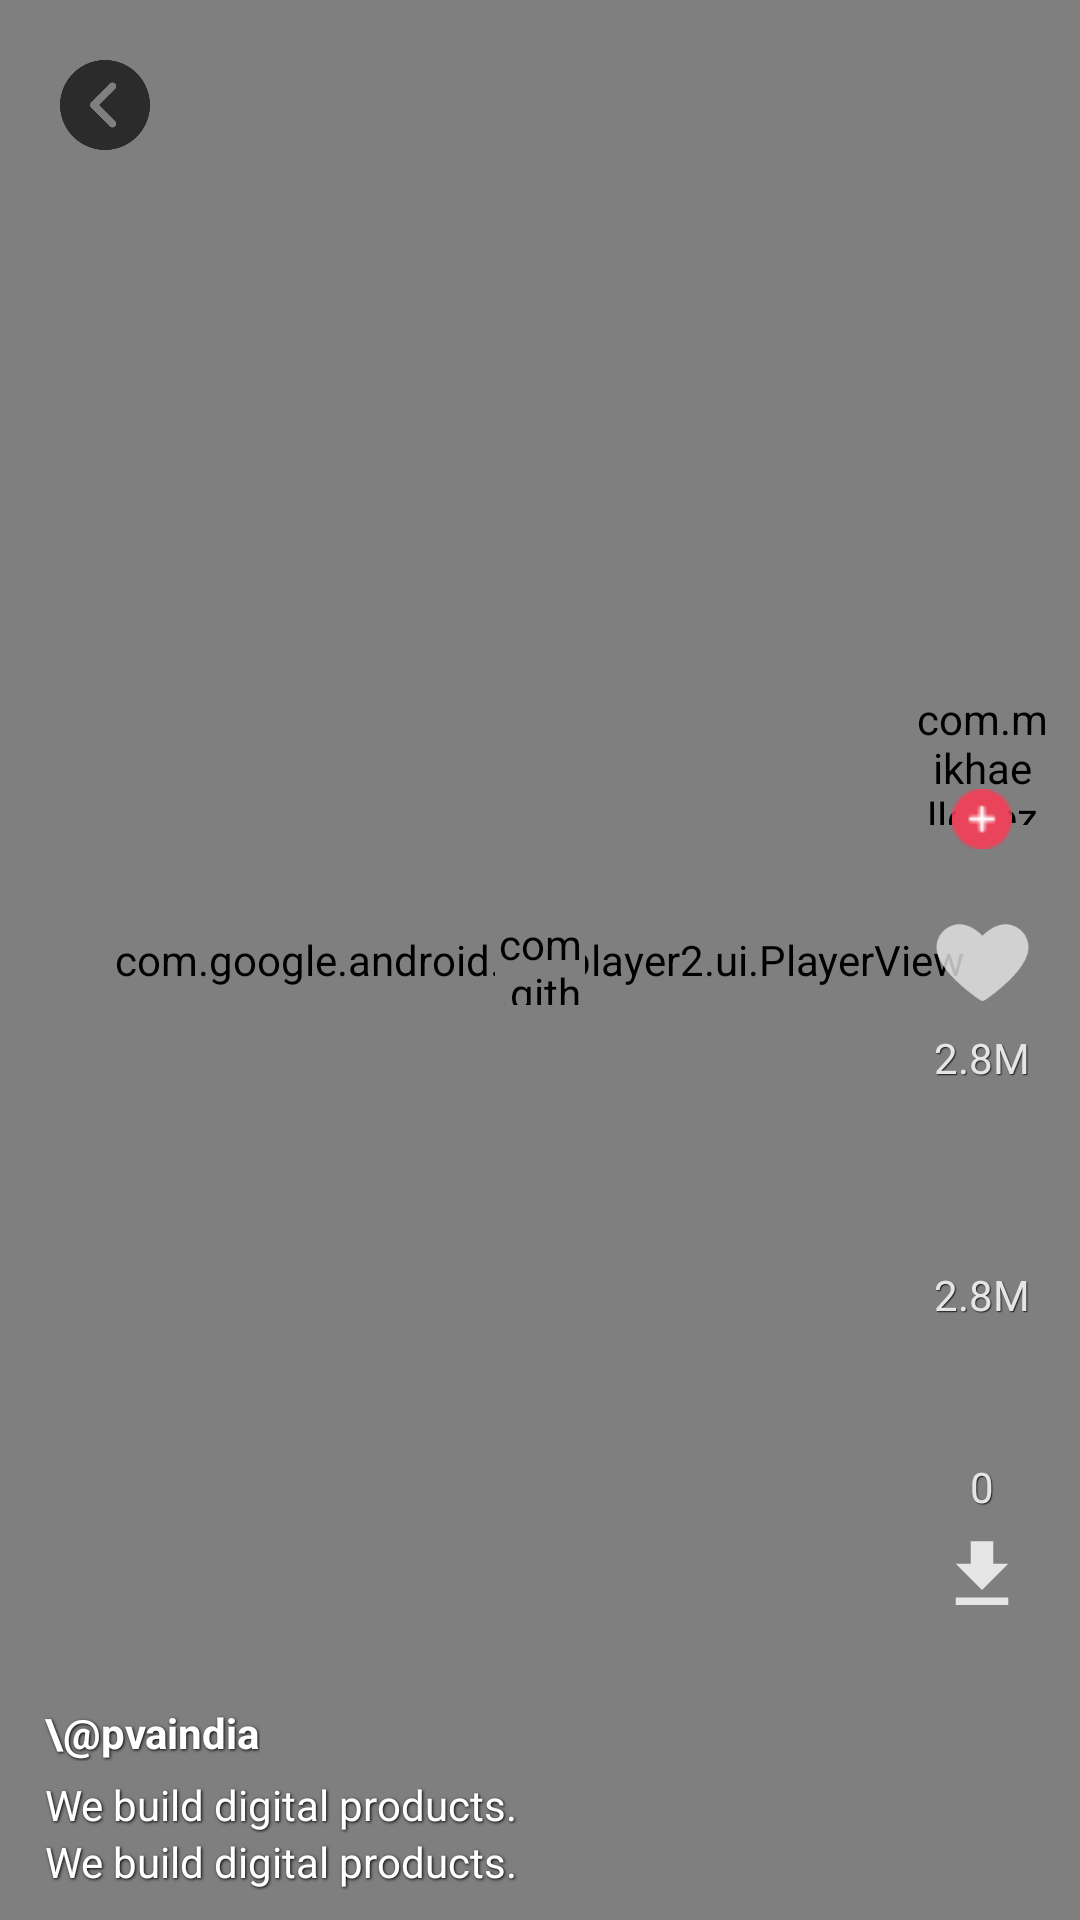

Icons on this 1080×1920 Android screen, each with its box as [left=x1, top=y1, right=x2, bottom=y2]:
follow side nav: [left=952, top=789, right=1012, bottom=849]
get app: [left=955, top=1541, right=1009, bottom=1605]
like side nav: [left=934, top=924, right=1029, bottom=1001]
previous: [left=60, top=60, right=150, bottom=150]
